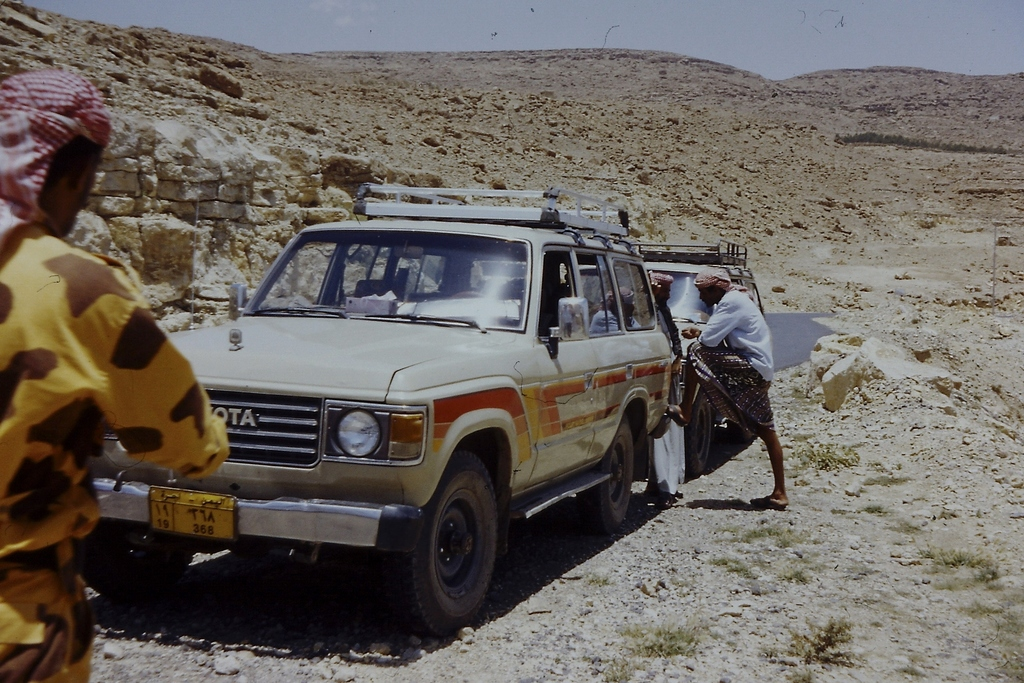Car: (77, 196, 778, 630)
